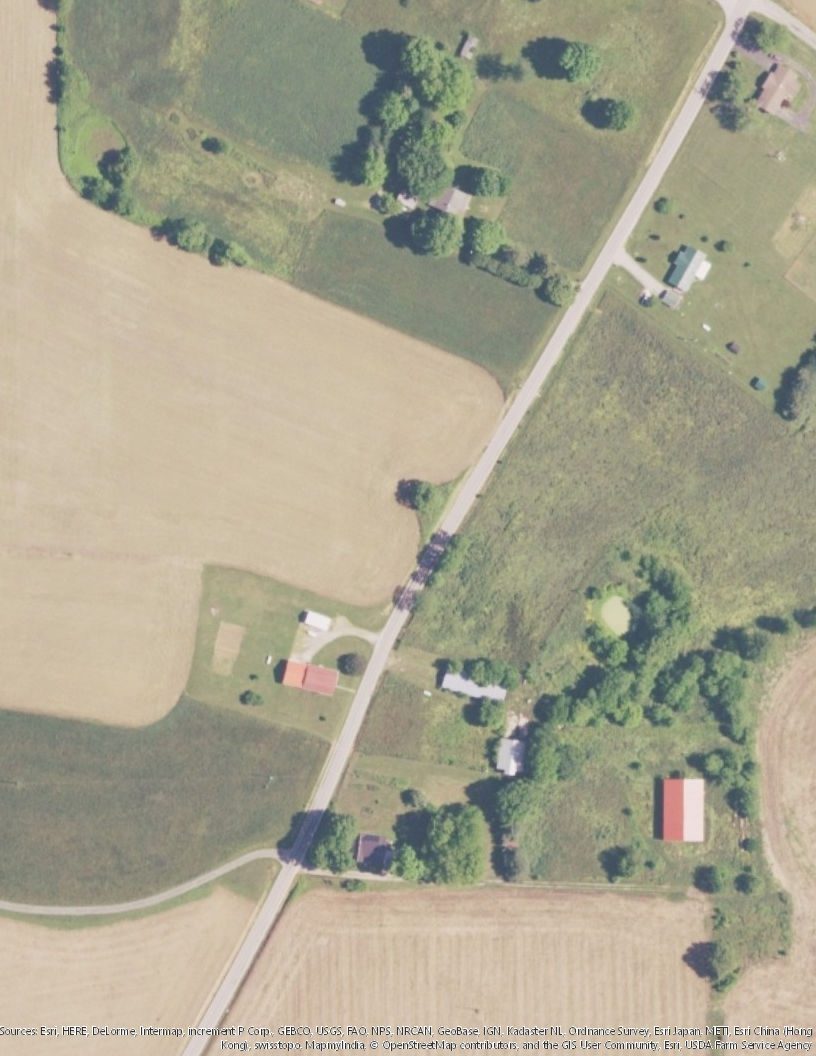cafo: (433, 651, 513, 710)
